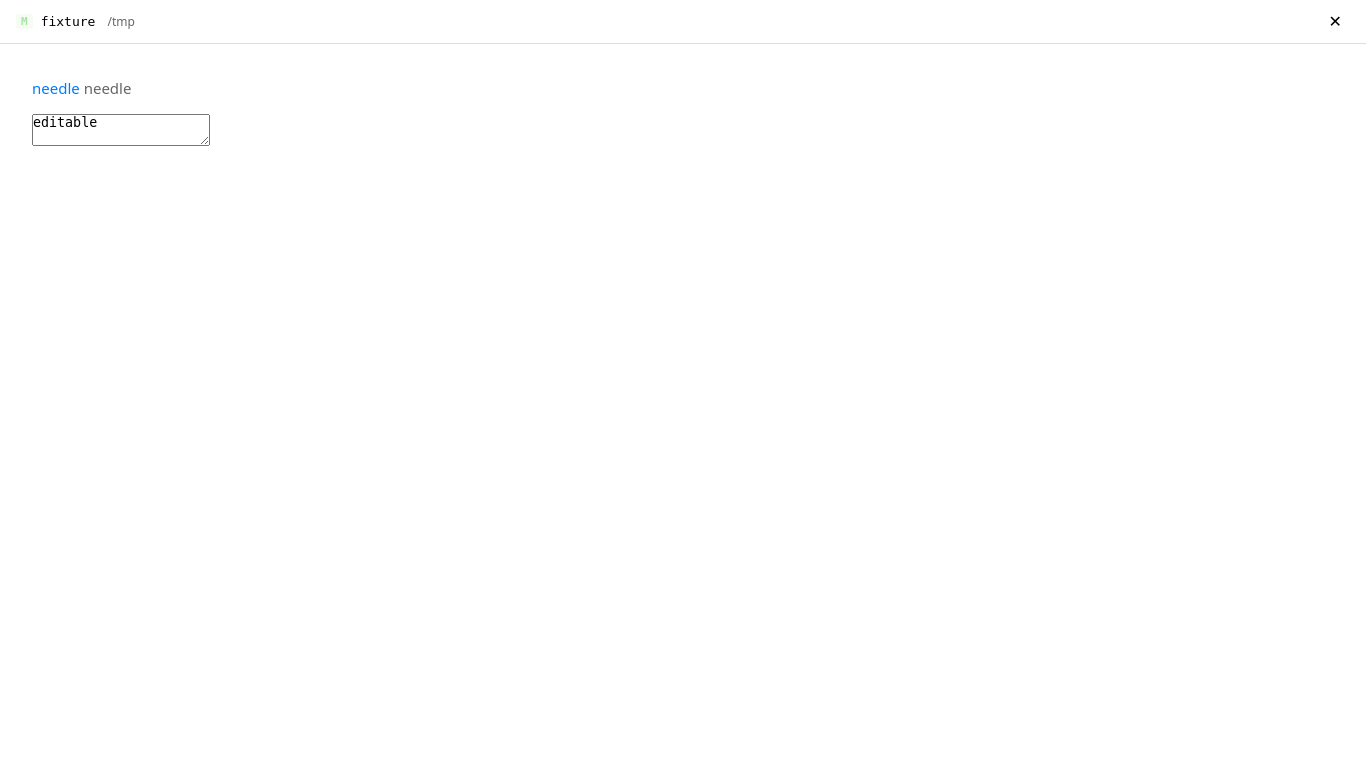
App keyboard handling › preserves Enter on links and editable controls but owns search-input and document Enter
Step 1. Press f
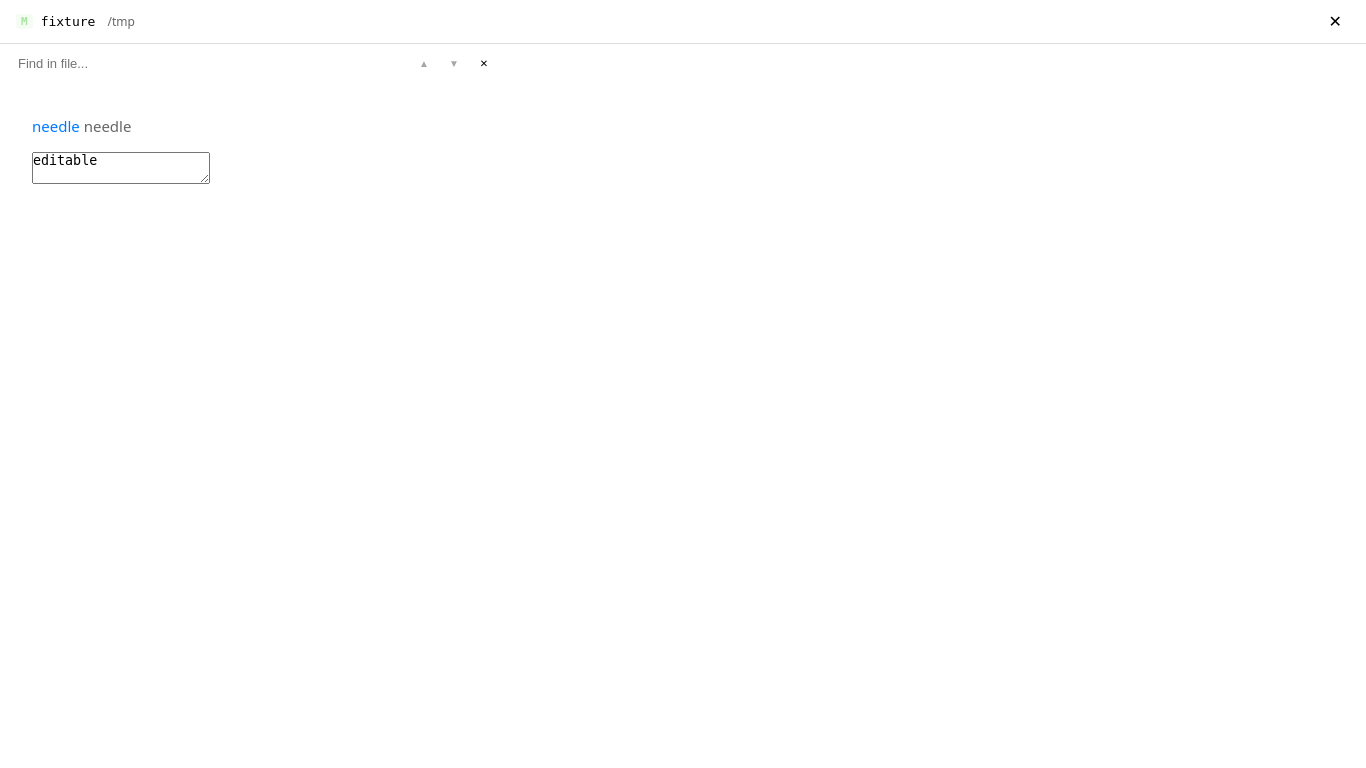
Step 2. Type "needle" into the field with class "search-input" → (170, 63), box x1=10 y1=49 x2=330 y2=77
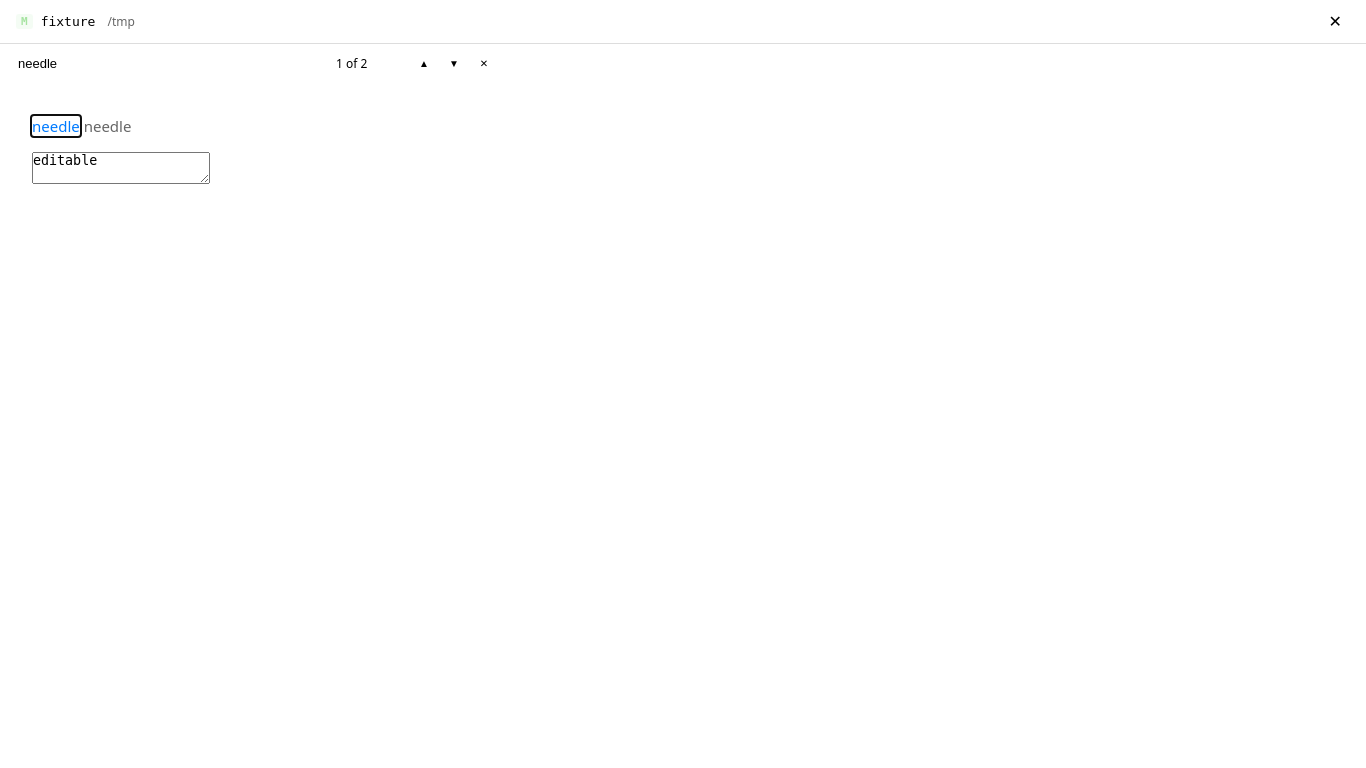
Step 3. Press Enter in the link "needle", box x1=32 y1=116 x2=80 y2=136
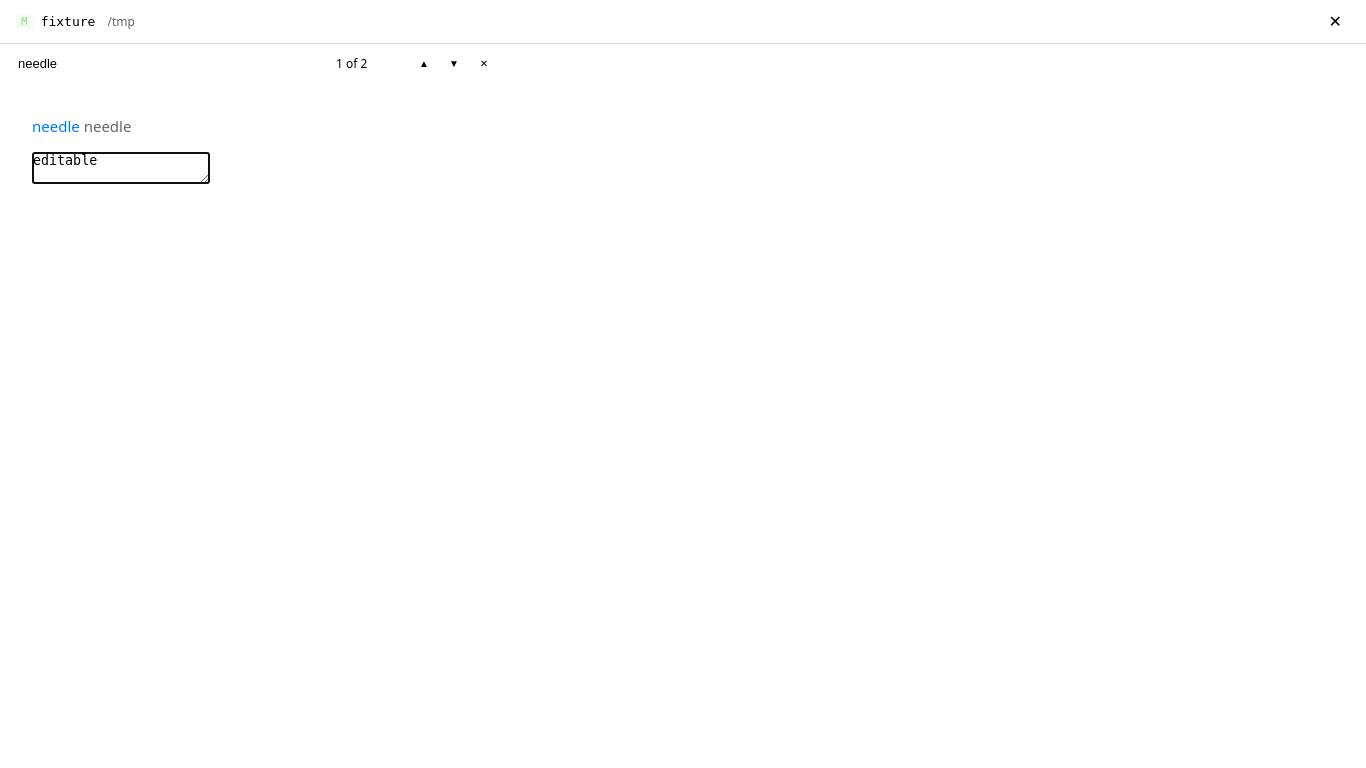
expect the text "1 of 2" is shown: met, box x1=336 y1=54 x2=367 y2=72
Step 4. Press Enter in the text box, box x1=32 y1=152 x2=210 y2=184
expect the text "1 of 2" is shown: met, box x1=336 y1=54 x2=367 y2=72
Step 5. Press Enter in the field with class "search-input", box x1=10 y1=49 x2=330 y2=77
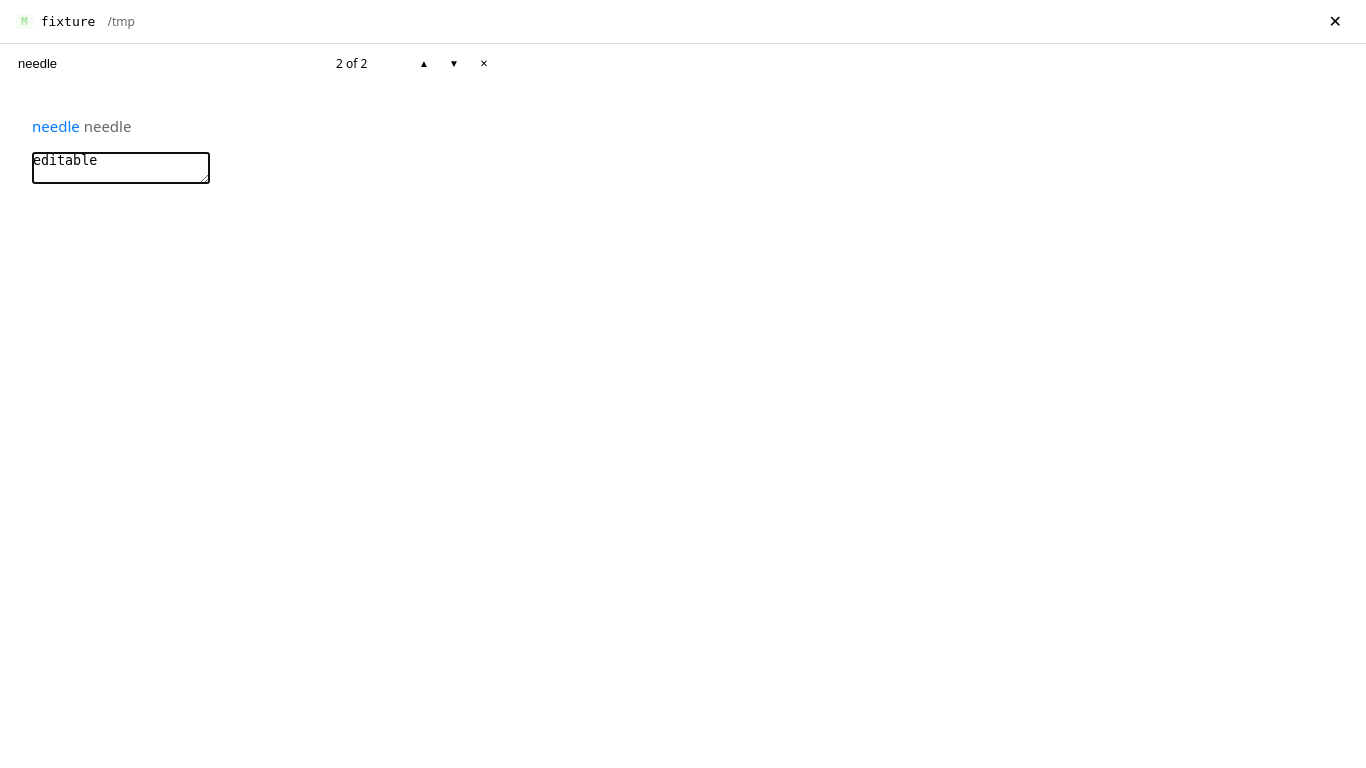
expect the text "2 of 2" is shown: met, box x1=336 y1=54 x2=367 y2=72
Step 6. Press Enter in the element showing "needle needle", box x1=32 y1=116 x2=131 y2=136
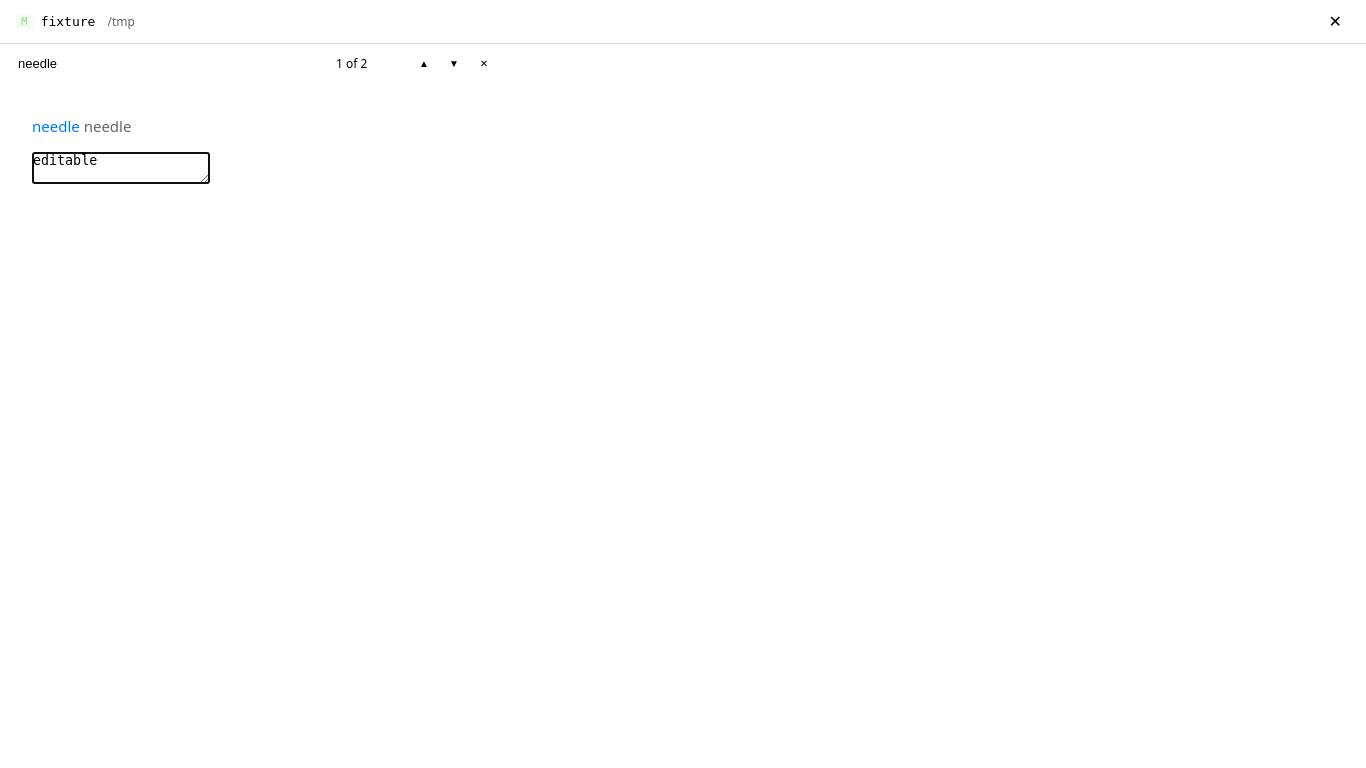
expect the text "1 of 2" is shown: met, box x1=336 y1=54 x2=367 y2=72
Step 7. Press Escape in the text box, box x1=32 y1=152 x2=210 y2=184
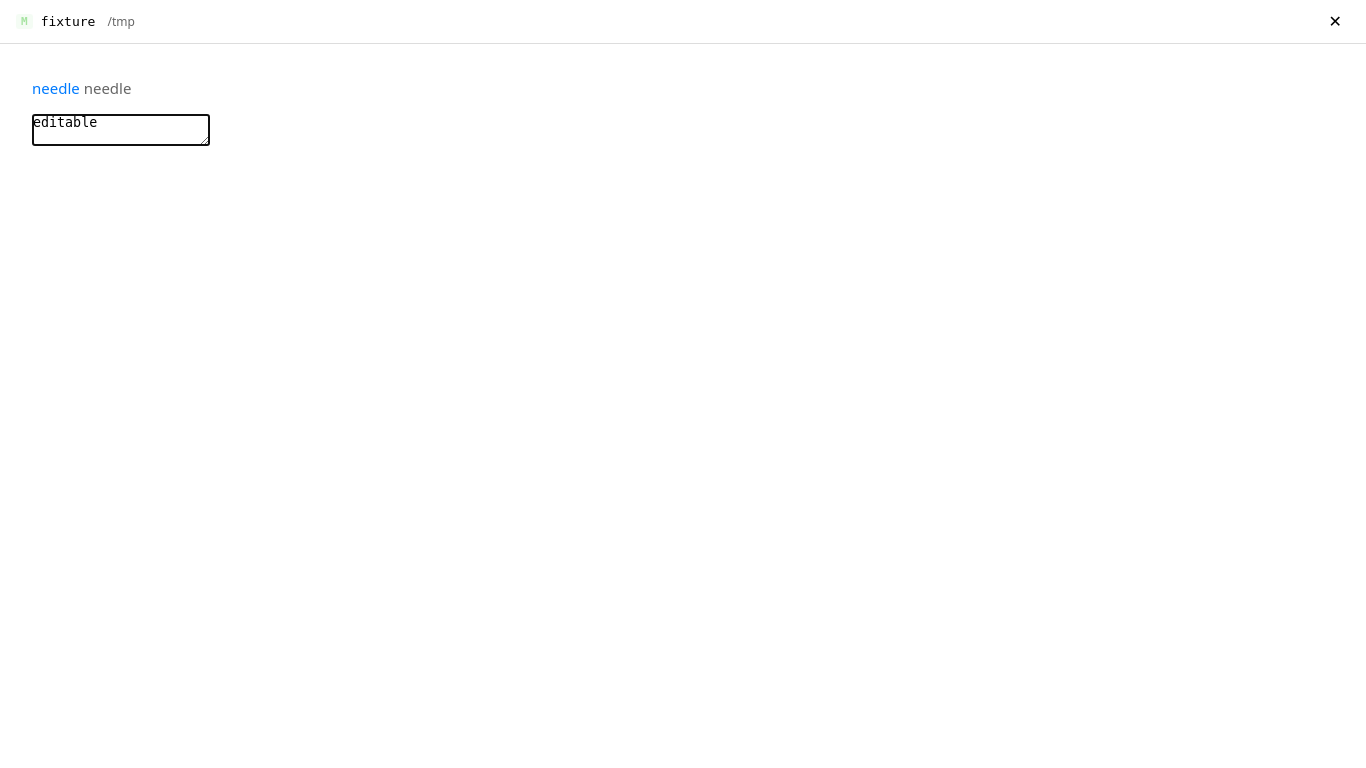
expect the element with class "search-bar" is gone: met
